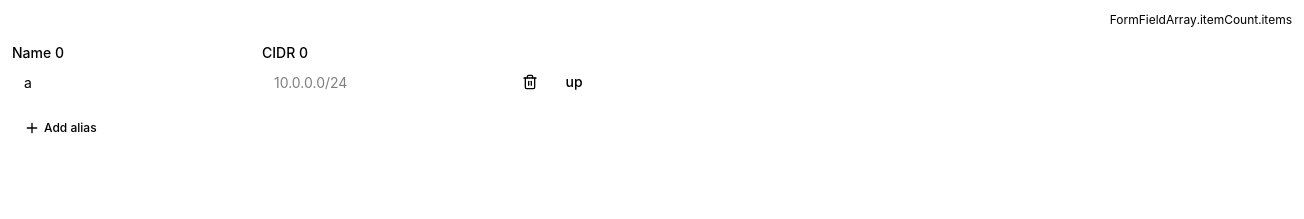
FormFieldArray › re-enables Remove once count exceeds minItems
Expected: the button named "Remove alias 0" is disabled, 512,64 -> 548,100
What coordinates should you click on to do the following:
click the button "Add alias"
I would click on:
 (60, 128)
Its box is 12,112 -> 109,144.
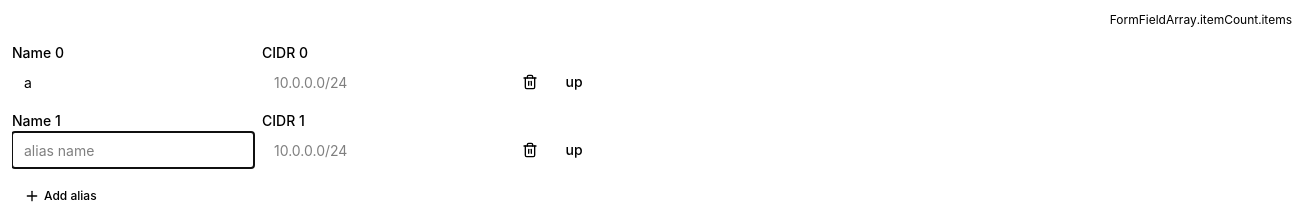
Expected: the button named "Remove alias 0" is enabled, 512,64 -> 548,100
Result: the button named "Remove alias 1" is enabled at 512,132 -> 548,168
